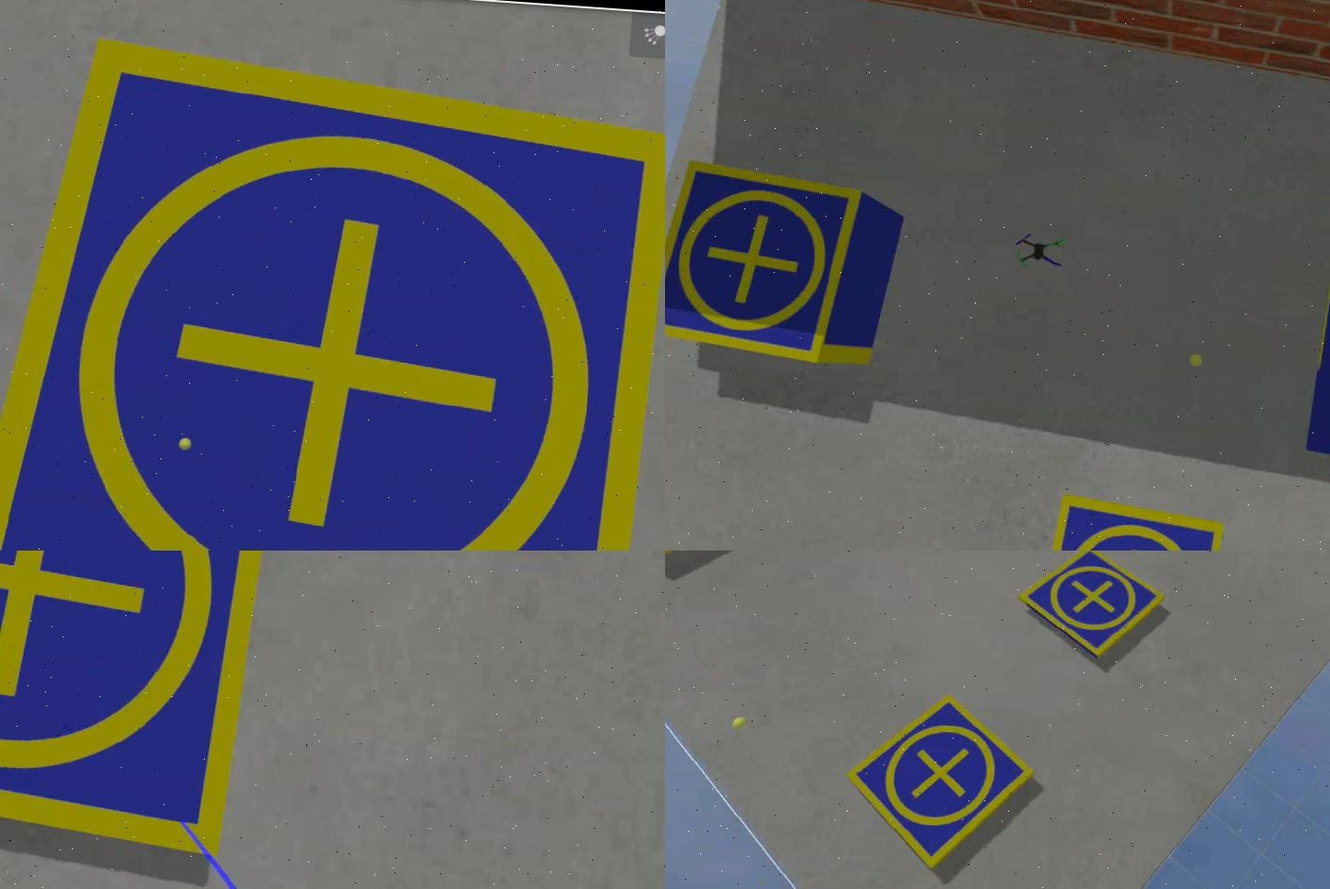small_base: (0, 35, 663, 551), (0, 551, 283, 868), (663, 156, 867, 365), (837, 691, 1040, 882), (1011, 551, 1164, 663), (1021, 498, 1225, 551)
